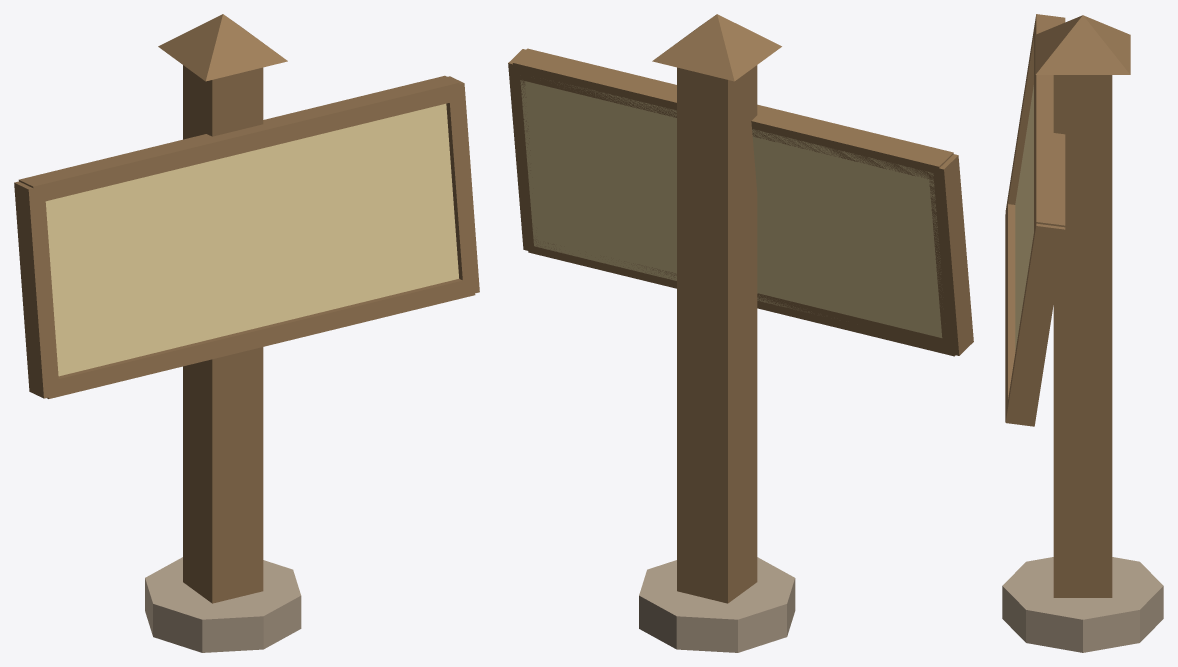
Rendered from signpost.glb.
3 renders of one model, left to right at view 1: azimuth 30°, elevation 25°; view 2: azimuth 150°, elevation 25°; view 3: azimuth 270°, elevation 25°, orthographic.
Parts seen in each view (by area): view 1: shared-signpost; view 2: shared-signpost; view 3: shared-signpost.
Part boxes in pixels (<box>): shared-signpost: <box>14,14,479,652</box>; shared-signpost: <box>508,14,973,652</box>; shared-signpost: <box>1002,14,1163,652</box>.
Size of the model in its own units: 1.37 by 1.82 by 0.44.
